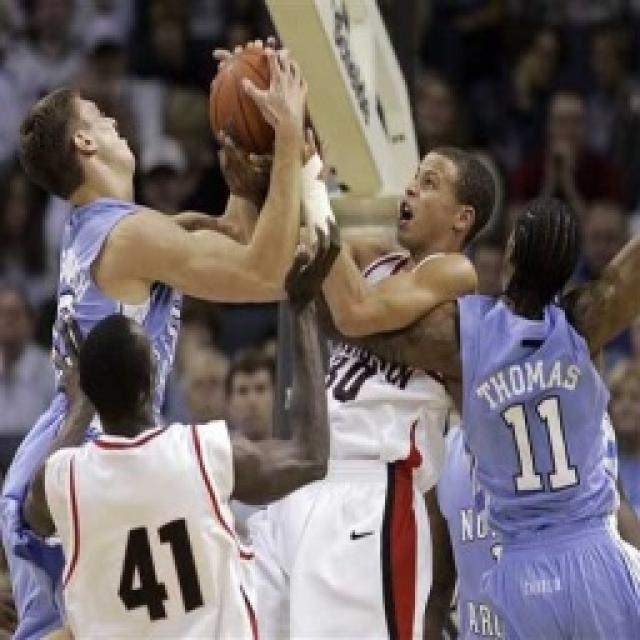rim: (206, 38, 310, 154)
